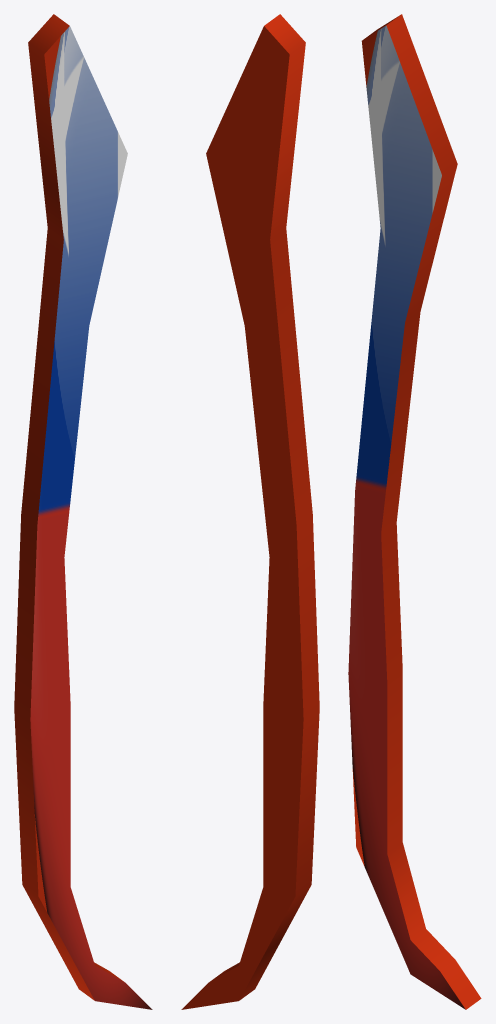
Rendered from chile.fbx.
3 renders of one model, left to right at view 1: azimuth 30°, elevation 25°; view 2: azimuth 150°, elevation 25°; view 3: azimuth 330°, elevation 25°, orthographic. The views are drawn at different scales.
Visible parts, largest first — view 1: Tapa_1, chile, Tapa_2; view 2: Tapa_2, chile; view 3: Tapa_1, chile.
Part boxes in pixels (x1,y1,x2,y2): Tapa_1: (30, 26, 152, 1009); chile: (14, 14, 123, 1000); Tapa_2: (34, 36, 60, 912); Tapa_2: (181, 26, 303, 1009); chile: (210, 14, 319, 1000); Tapa_1: (348, 25, 465, 1009); chile: (352, 14, 481, 1009).
Bounding box in the file's own units: 87.34 × 685 × 20.
Materials: 2 (1 with a texture image).
